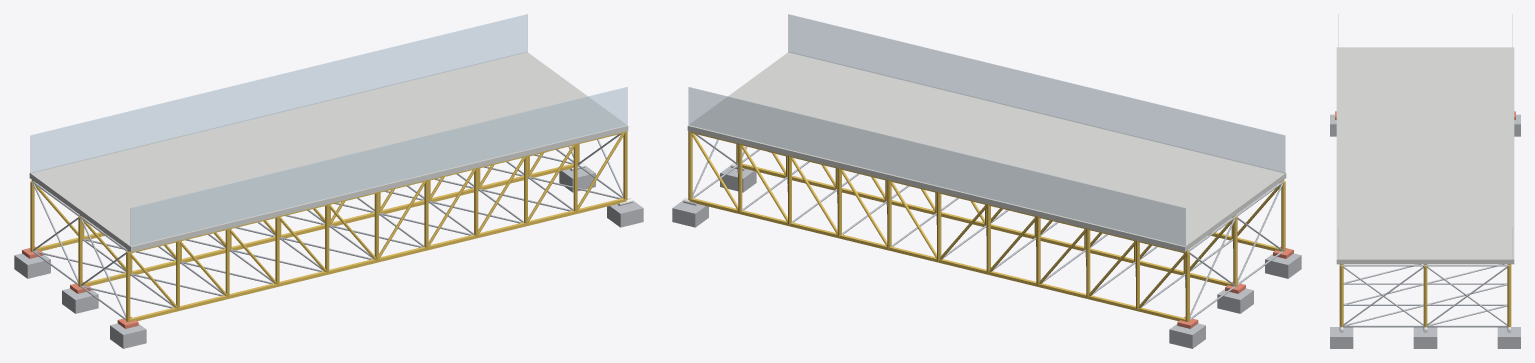
The model's file is bridge_real.glb.
3 views of the same model, side by side, from view 1: azimuth 30°, elevation 25°; view 2: azimuth 150°, elevation 25°; view 3: azimuth 270°, elevation 25° (orthographic). The views are drawn at different scales.
Visible parts, largest first — view 1: deck_150mm, balustrade (×2), cross_frames, chords, verticals, diagonals, block (×5); view 2: deck_150mm, balustrade (×2), chords, verticals, diagonals, cross_frames, block (×5); view 3: deck_150mm, cross_frames, block (×3), verticals, balustrade (×2).
Boxes of the visible parts, left/top/right/bottom form: deck_150mm: left=29, top=51, right=628, bottom=252; balustrade (×2): left=30, top=14, right=627, bottom=246; cross_frames: left=32, top=134, right=623, bottom=319; chords: left=31, top=132, right=626, bottom=321; verticals: left=30, top=131, right=627, bottom=321; diagonals: left=35, top=133, right=624, bottom=308; block (×5): left=14, top=163, right=643, bottom=348; deck_150mm: left=687, top=51, right=1286, bottom=252; balustrade (×2): left=688, top=14, right=1285, bottom=246; chords: left=689, top=132, right=1284, bottom=321; verticals: left=688, top=131, right=1285, bottom=321; diagonals: left=691, top=133, right=1280, bottom=308; cross_frames: left=692, top=134, right=1283, bottom=319; block (×5): left=672, top=163, right=1301, bottom=348; deck_150mm: left=1336, top=47, right=1514, bottom=264; cross_frames: left=1341, top=264, right=1509, bottom=327; block (×3): left=1330, top=327, right=1520, bottom=348; verticals: left=1339, top=264, right=1511, bottom=327; balustrade (×2): left=1338, top=14, right=1512, bottom=258.
Size of the model in its own units: 15.7 by 3.87 by 5.7.
